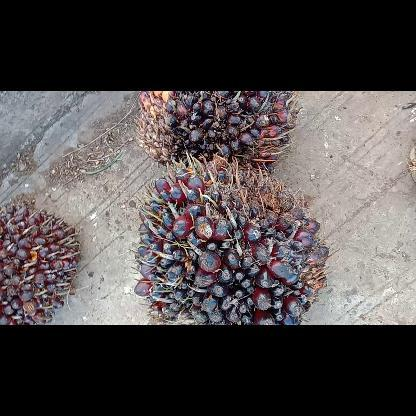TBS mentah: (134, 158, 328, 324), (138, 90, 298, 174), (0, 198, 80, 324)
